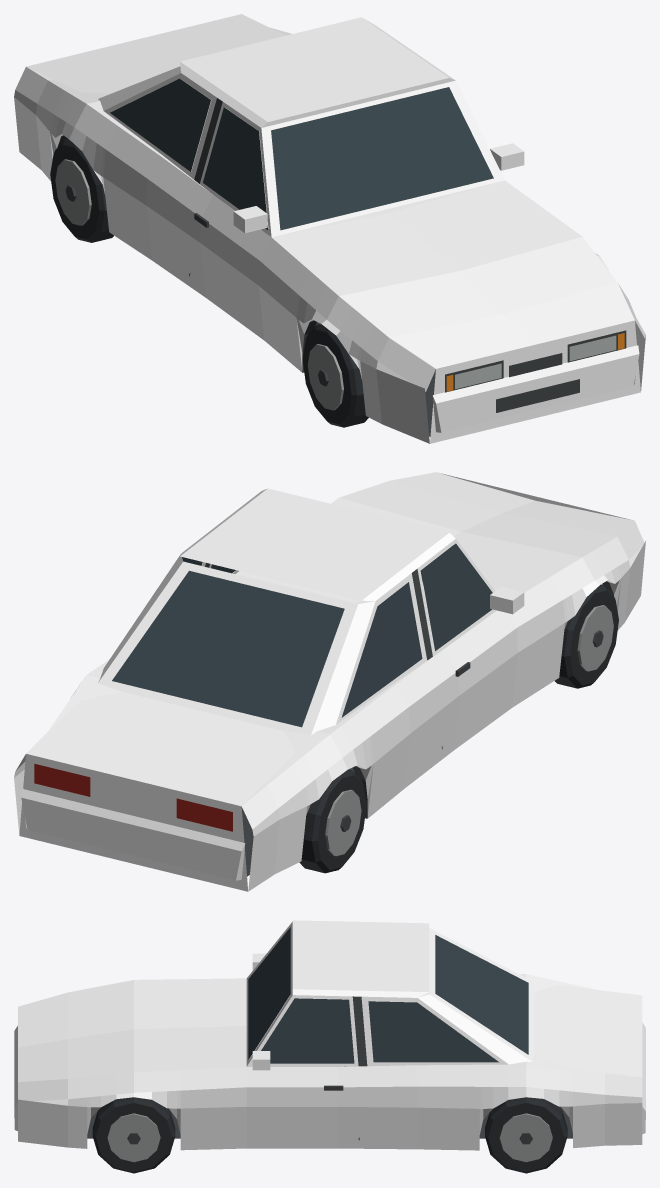
File: hayase_sazanami.glb
The picture shows the model from 3 angles, top to bottom: view 1: azimuth 30°, elevation 25°; view 2: azimuth 150°, elevation 25°; view 3: azimuth 270°, elevation 25°; orthographic projection. The views are drawn at different scales.
Visible parts, largest first — view 1: hayase_sazanami; view 2: hayase_sazanami; view 3: hayase_sazanami.
Part boxes in pixels (x1,y1,x2,y2): hayase_sazanami: (14,14,645,443); hayase_sazanami: (14,472,645,891); hayase_sazanami: (14,920,645,1173).
Bounding box in the file's own units: 1.71 × 1.27 × 4.3.
8 materials, 1 textured.
